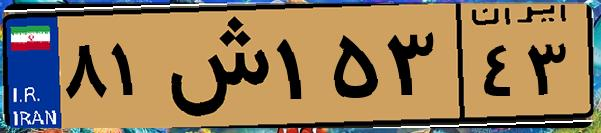1: (270, 28, 330, 110), (110, 28, 158, 98)
3: (385, 28, 445, 110), (525, 38, 570, 115)
4: (475, 38, 525, 113)
5: (330, 28, 385, 110)
8: (57, 26, 110, 100)
ش: (158, 12, 270, 120)
